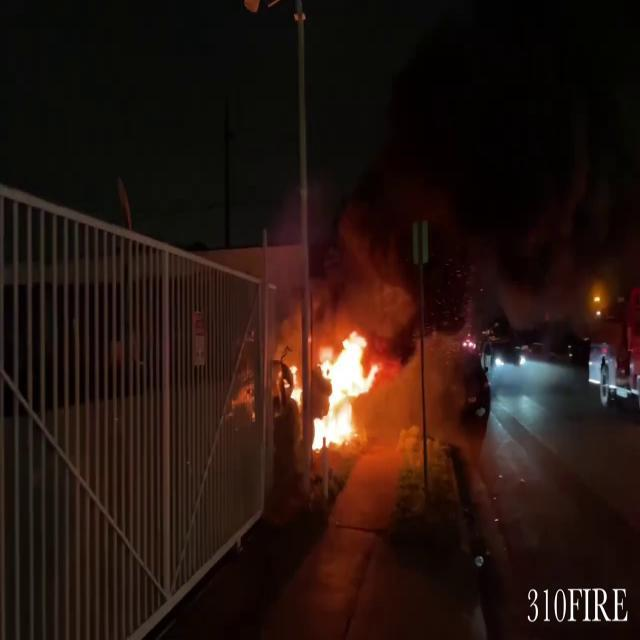Fire: (308, 324, 384, 458)
